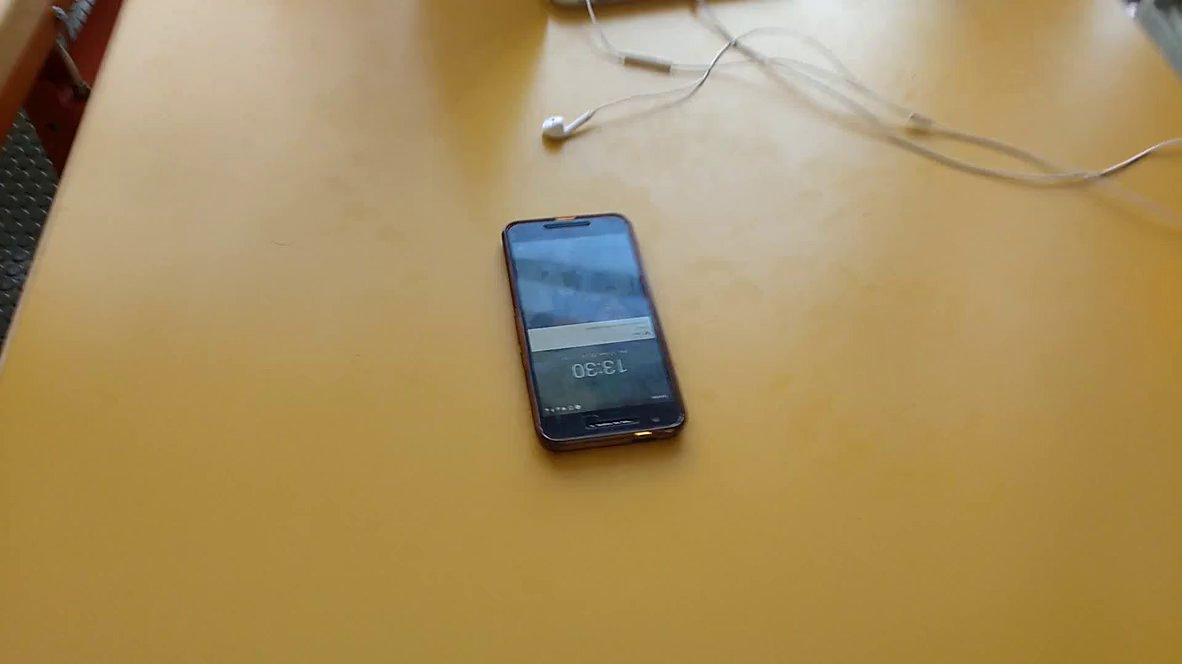phone: (491, 204, 701, 465)
